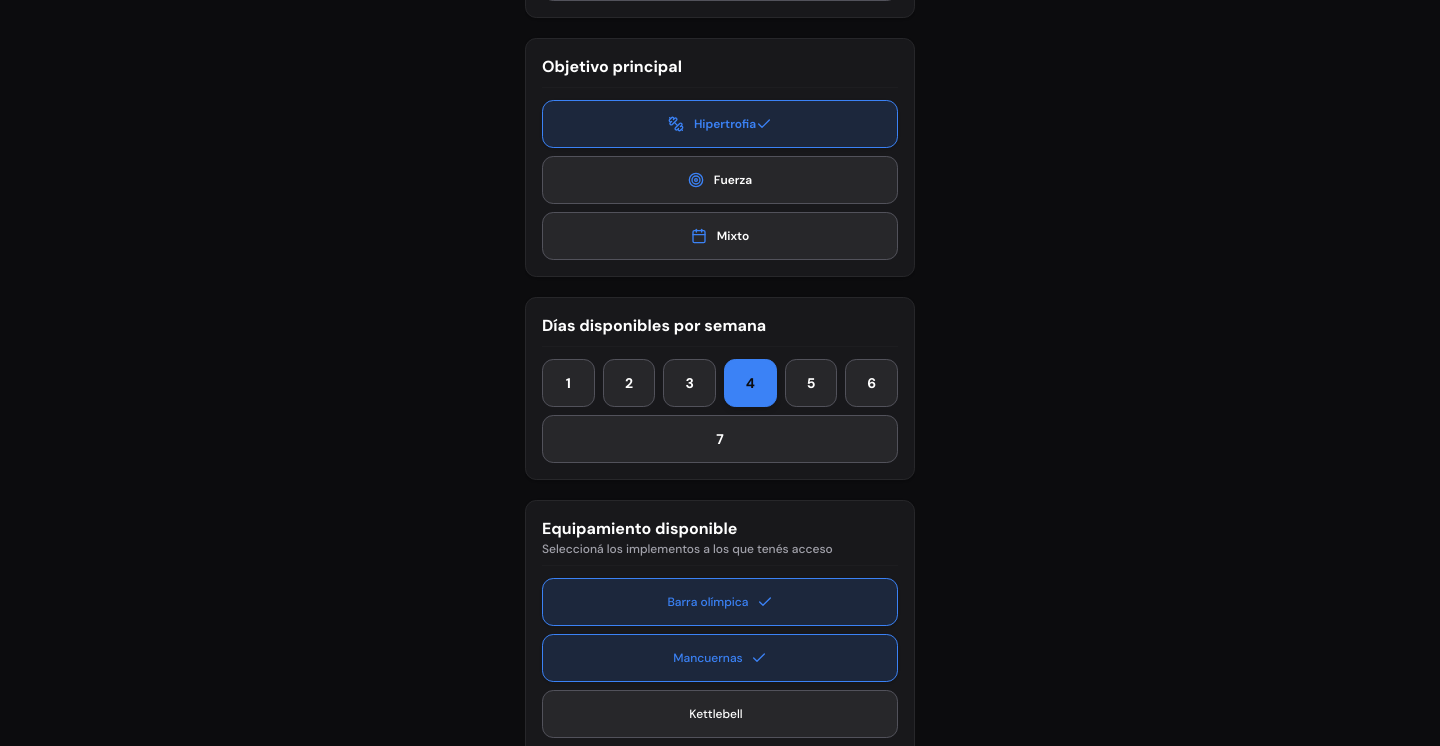
Test: TASK-38: ProfilePage.tsx — Weight Tracking & Availability Change Warning (RF-01, RF-02, RF-09, Constitución Art. 2) › Advertencia de cambio de disponibilidad con mesociclo activo (RF-09 CA-09.1) › should dismiss warning modal and keep original days when clicking "Mantener días actuales"
(page scrolled)
Click day 6
Click the button "6".
click(872, 383)  # box [845,359,898,407]
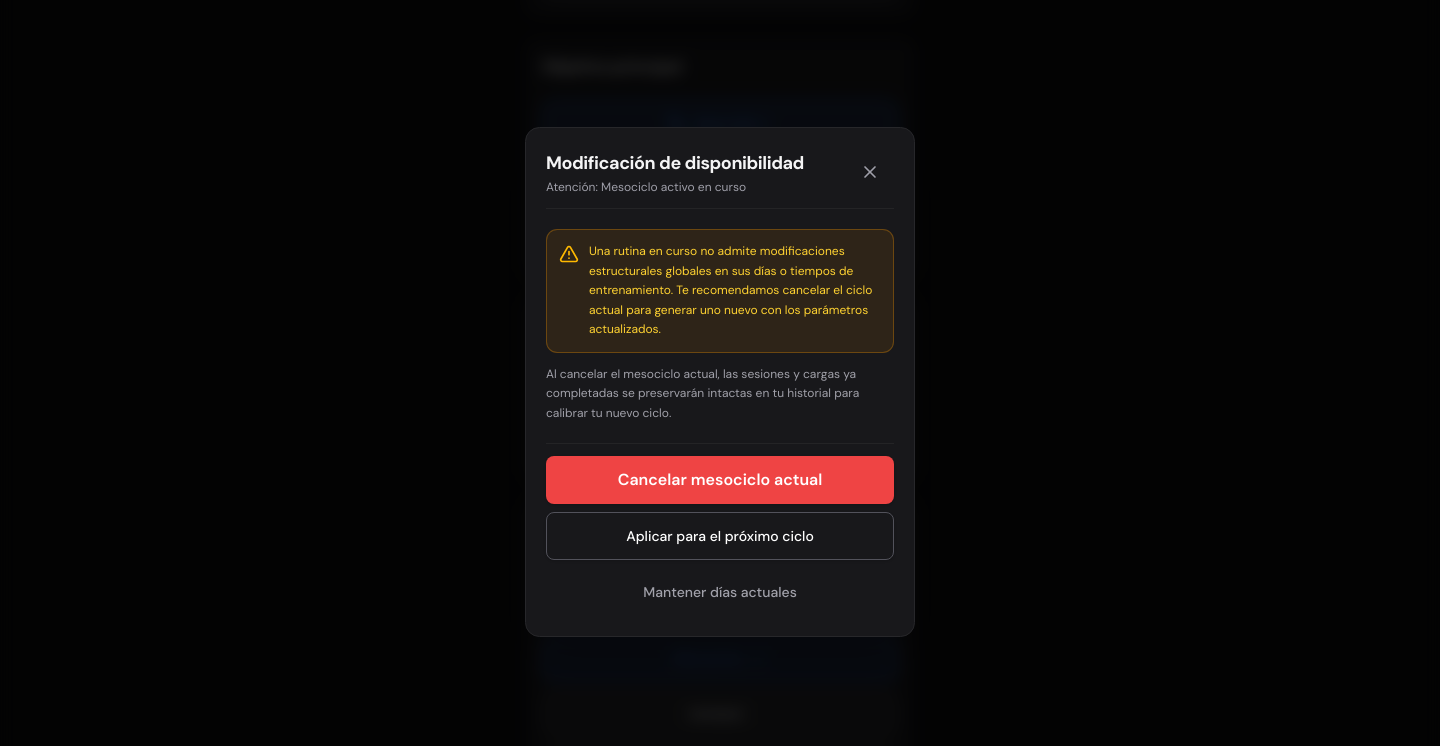
Click keep days
Click the button "Mantener días actuales".
click(720, 592)  # box [546,568,894,616]
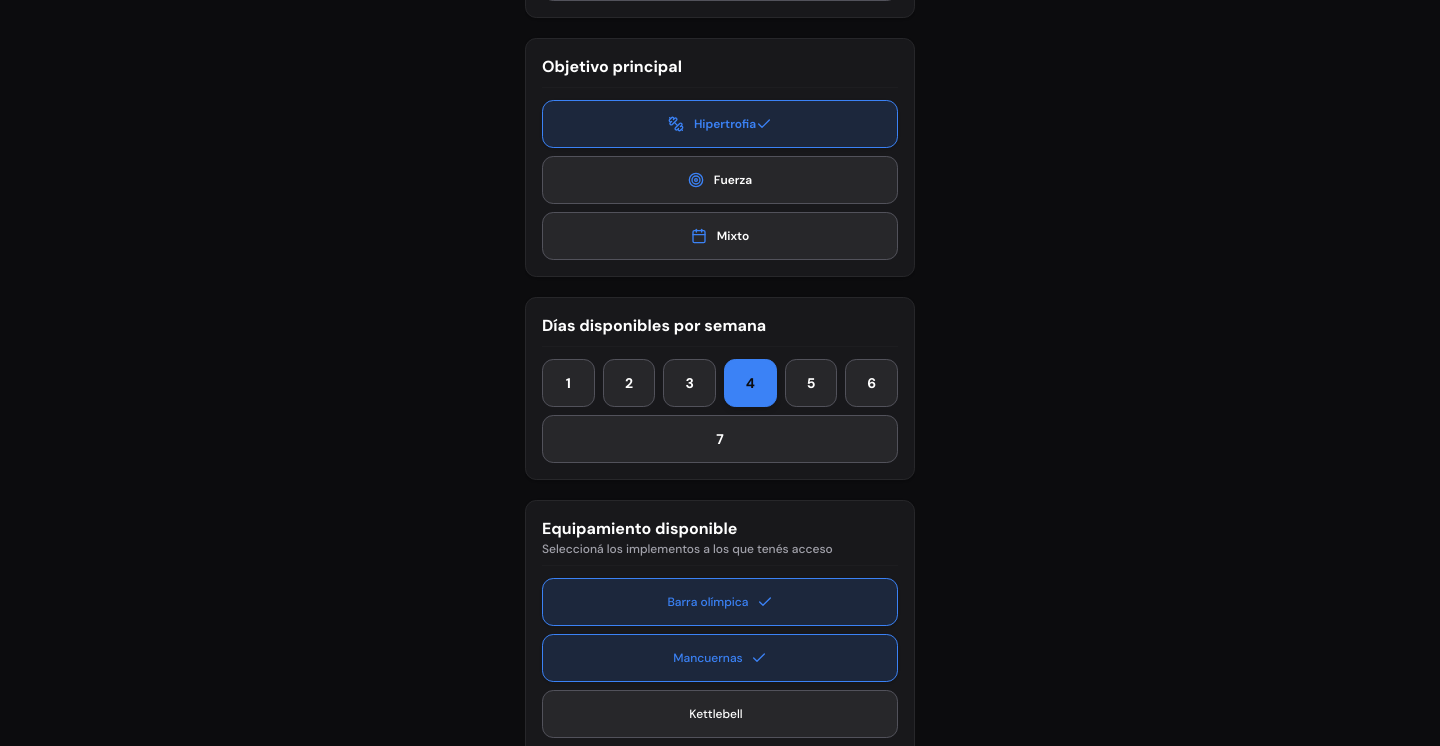
Expected: the heading "Modificación de disponibilidad" is gone
